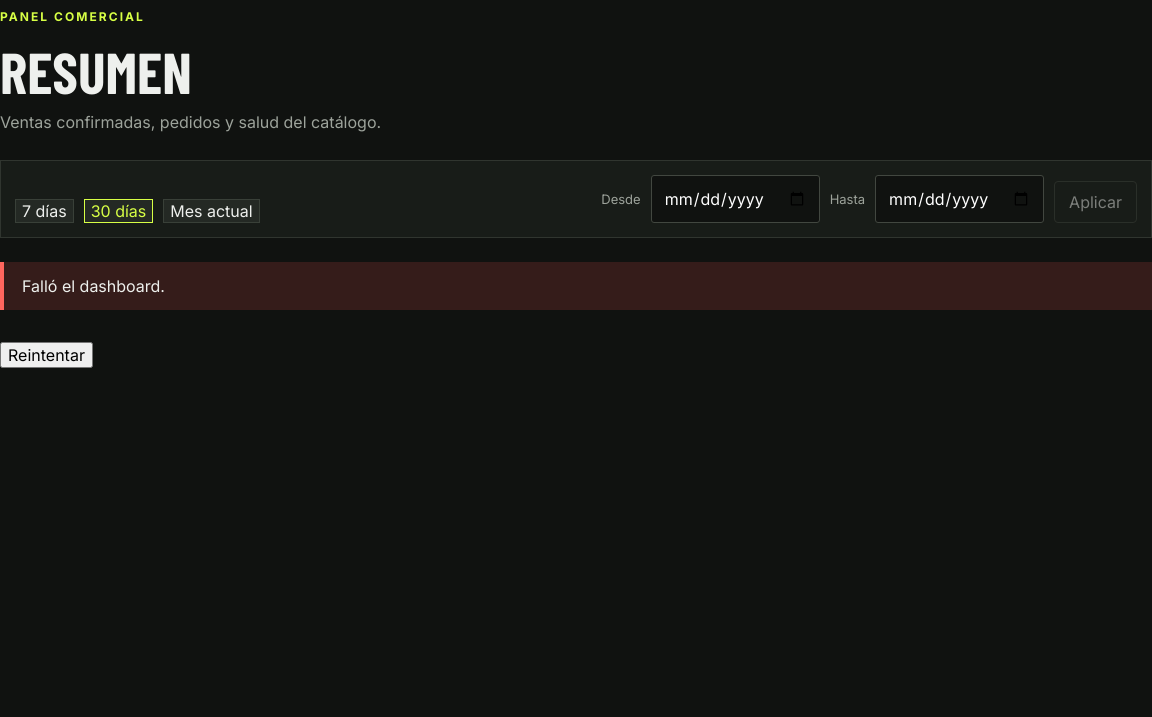
Test: AdminDashboard › muestra el error y permite reintentar
Expected: the message reads "Falló el dashboard.", [22,276,165,296]
Click the button "Reintentar".
click(46, 355)  # box [0,342,93,368]
(page scrolled)
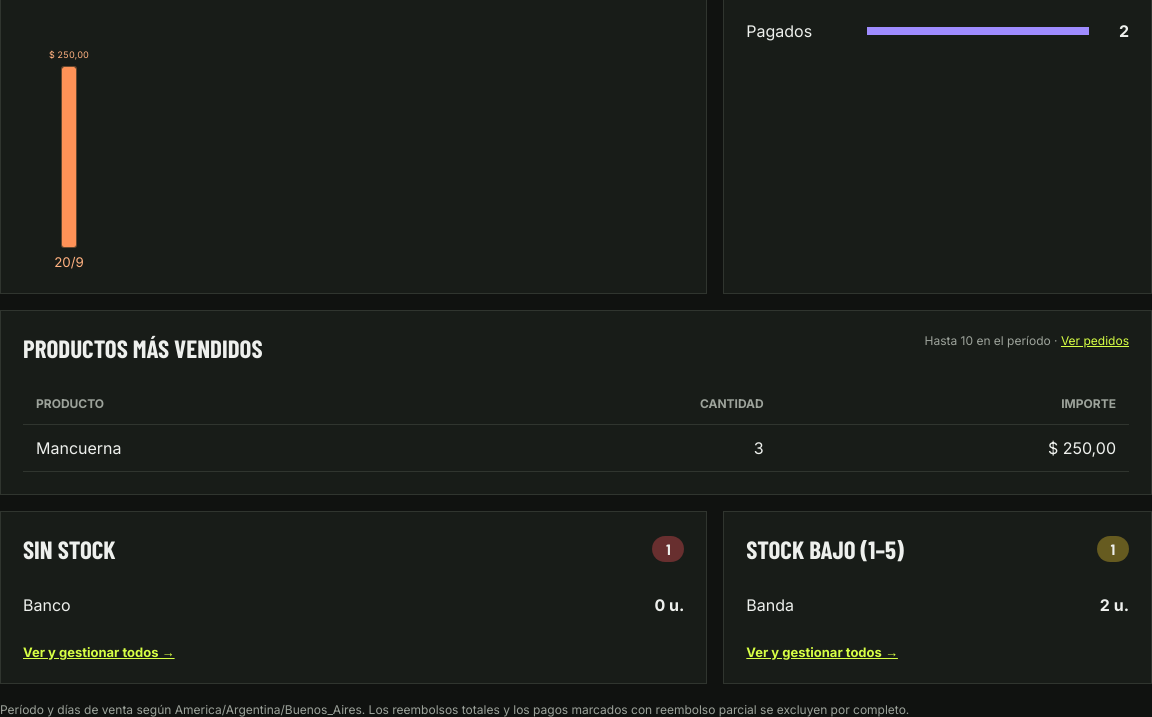
Result: the text "Mancuerna" is shown at [23,424,440,472]
Result: the message "Falló el dashboard." is gone
